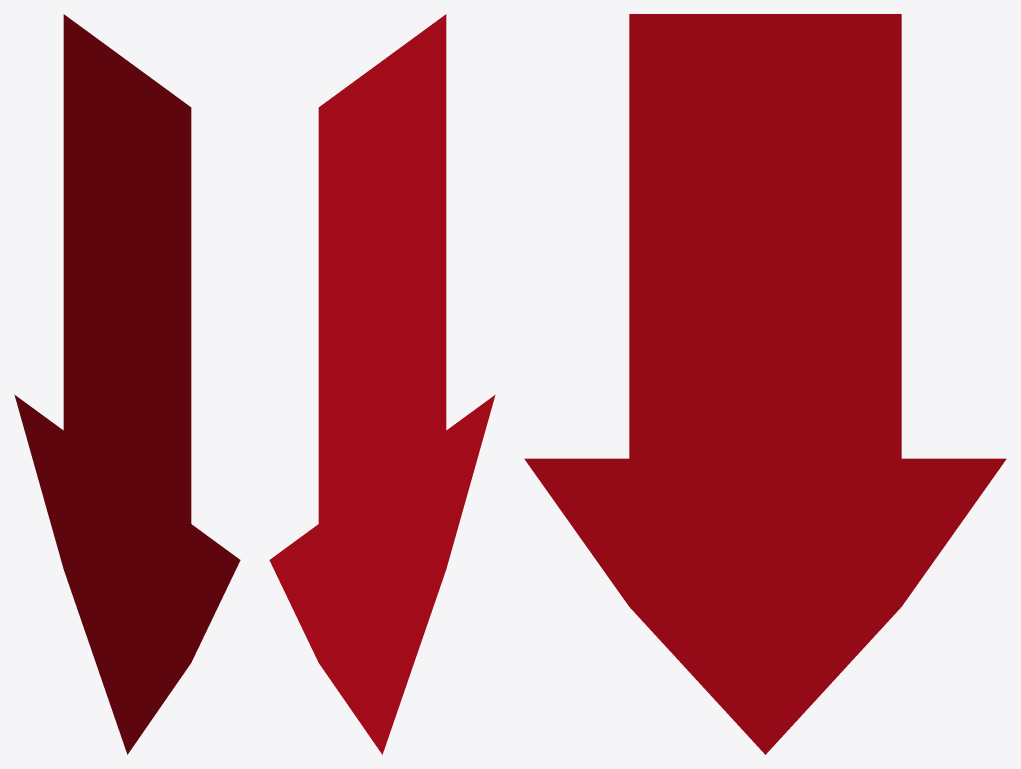
The model's file is arrow.fbx.
3 renders of one model, left to right at view 1: azimuth 30°, elevation 25°; view 2: azimuth 150°, elevation 25°; view 3: azimuth 270°, elevation 25°, orthographic. The views are drawn at different scales.
Parts seen in each view (by area): view 1: Plane; view 2: Plane; view 3: Plane.
Boxes of the visible parts, x1,y1,x2,y2 form: Plane: (14, 14, 240, 754); Plane: (269, 14, 495, 754); Plane: (524, 14, 1006, 754).
Size of the model in its own units: 3.89e-07 by 2 by 1.18.
